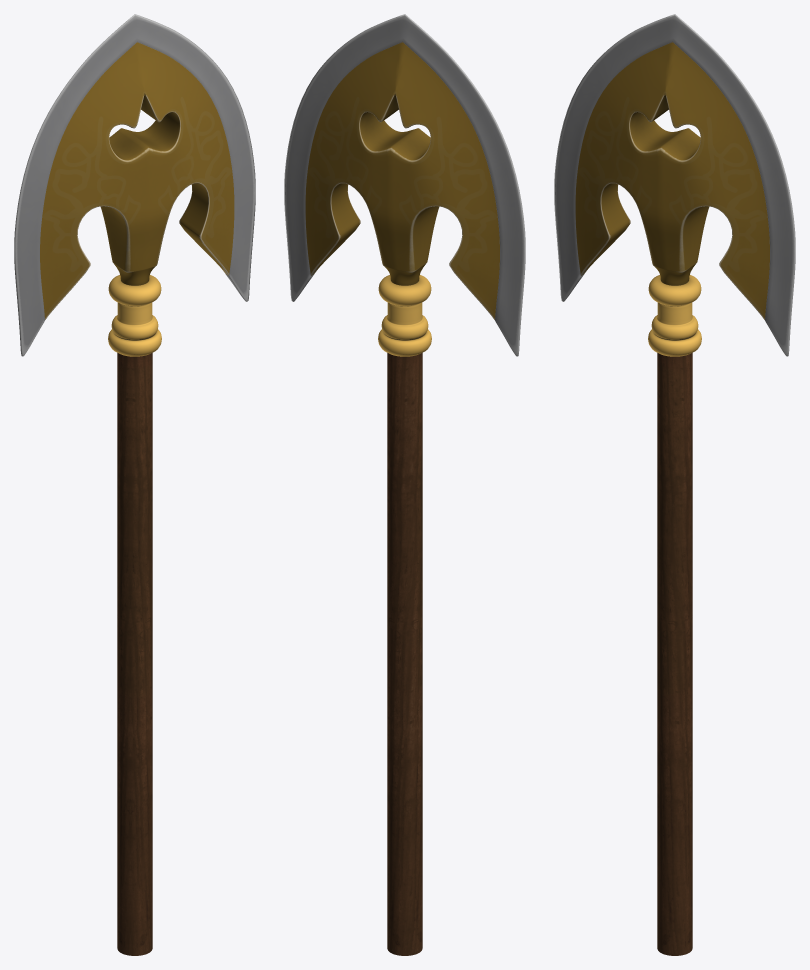
Rendered from Flecha.fbx.
The picture shows the model from 3 angles, left to right: view 1: azimuth 30°, elevation 25°; view 2: azimuth 150°, elevation 25°; view 3: azimuth 330°, elevation 25°; orthographic projection.
Visible parts, largest first — view 1: Arrow|Arrow_head|Dupli|; view 2: Arrow|Arrow_head|Dupli|; view 3: Arrow|Arrow_head|Dupli|.
Part boxes in pixels (<box>): Arrow|Arrow_head|Dupli|: <box>14,14,255,955</box>; Arrow|Arrow_head|Dupli|: <box>284,14,525,955</box>; Arrow|Arrow_head|Dupli|: <box>554,14,795,955</box>.
Size of the model in its own units: 32.13 by 119 by 6.8.
